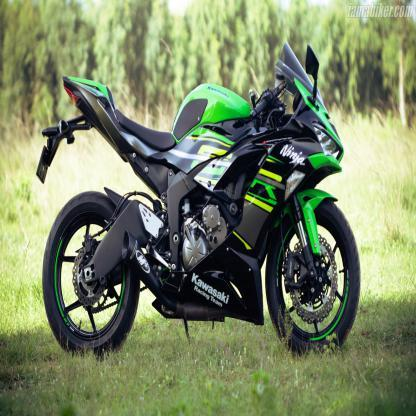Motorcycle: (34, 41, 367, 353)
